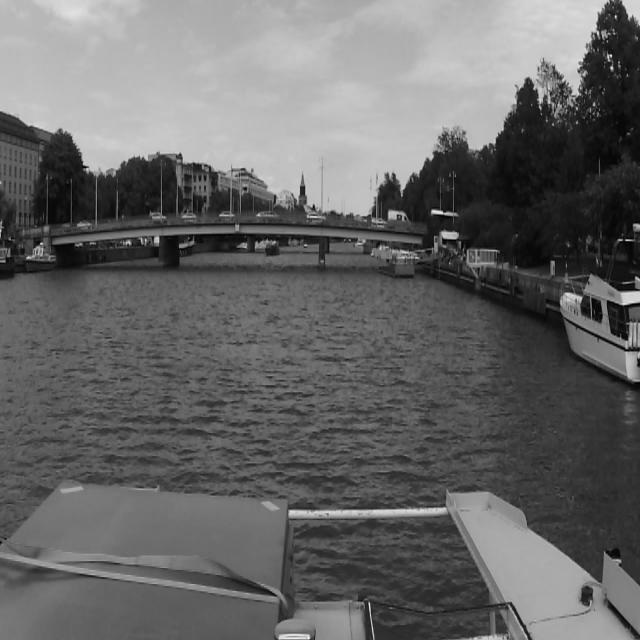ship: (560, 220, 640, 393), (301, 239, 311, 250)
